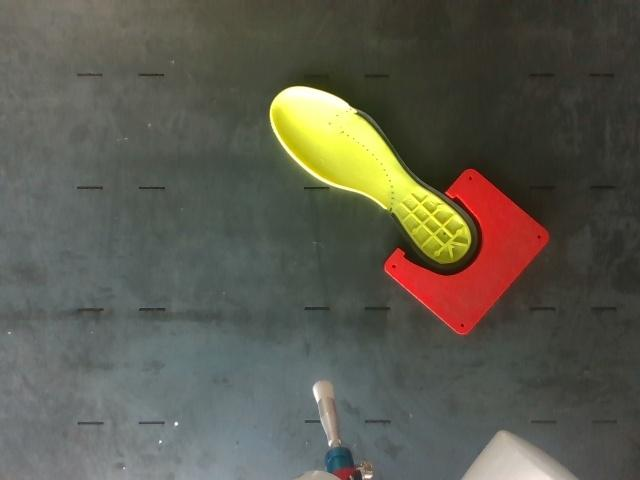shoes: (270, 87, 476, 269)
